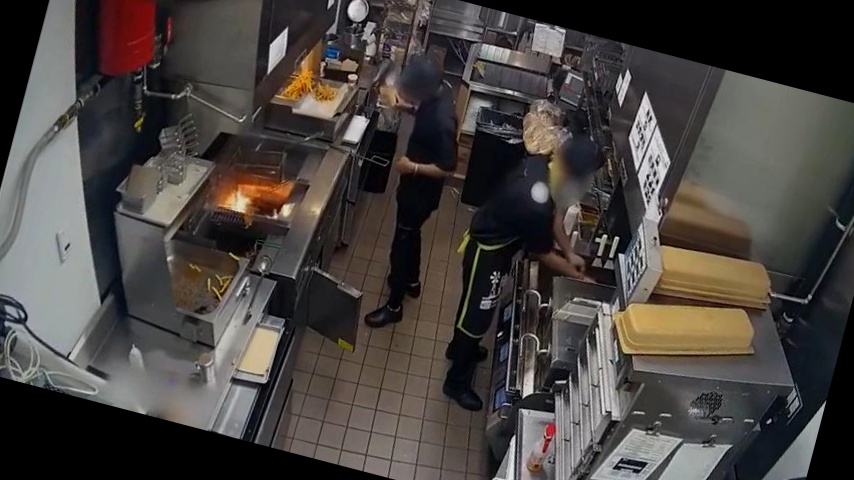fire: (193, 135, 313, 247)
